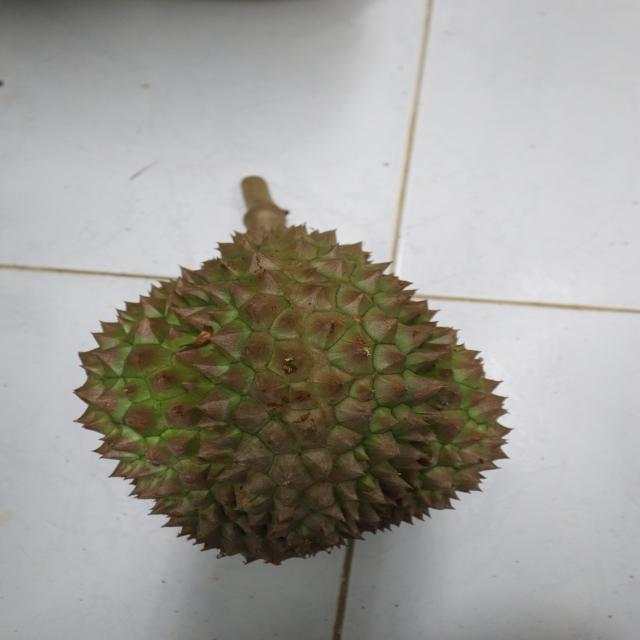mature: (75, 224, 508, 568)
